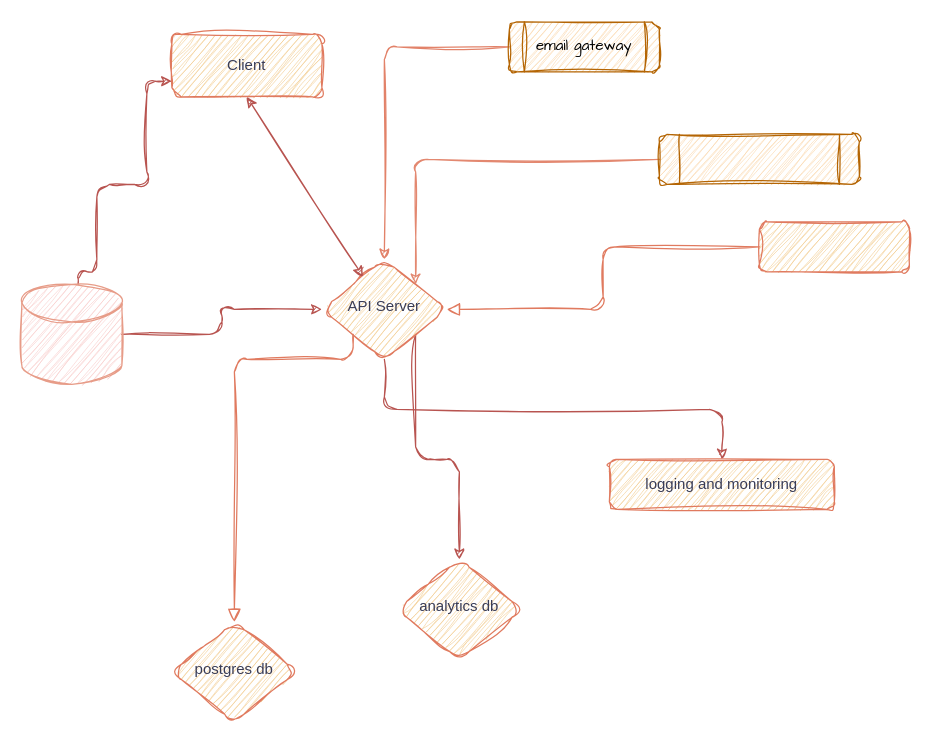
Image size: 931x744. Some labels were removed from this diagram. Here are the shapes that lost their labels. From the top down, the centre of each, then its label:
the point at 758,158: crm integrations
the point at 833,246: gemini/openai
the point at 71,333: redis/cache storage
